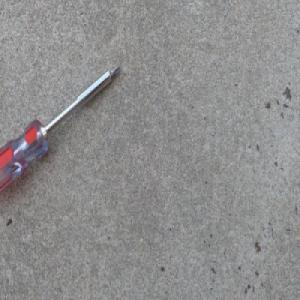Screwdriver: (0, 63, 122, 198)
